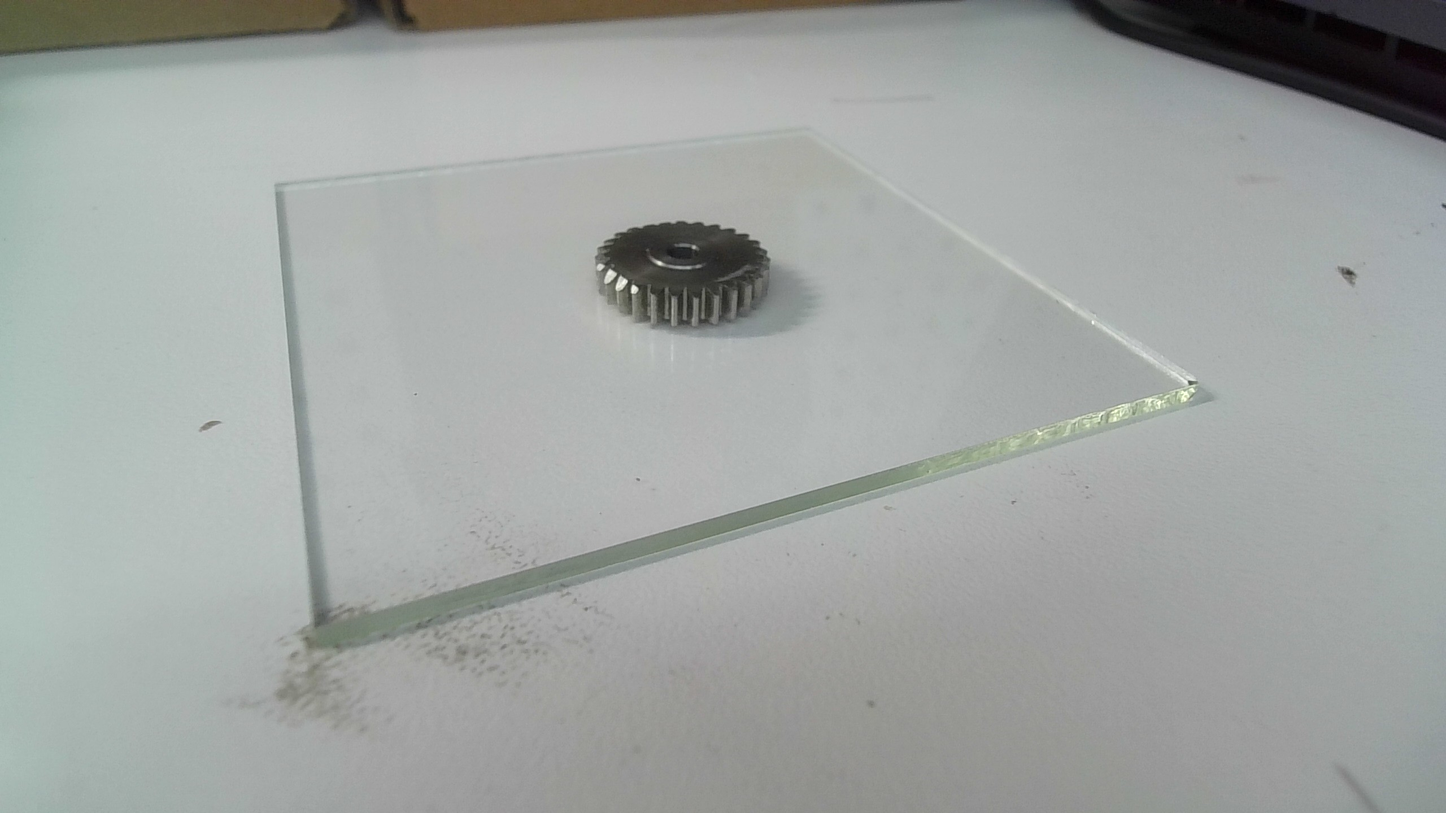gear: (591, 218, 776, 333)
